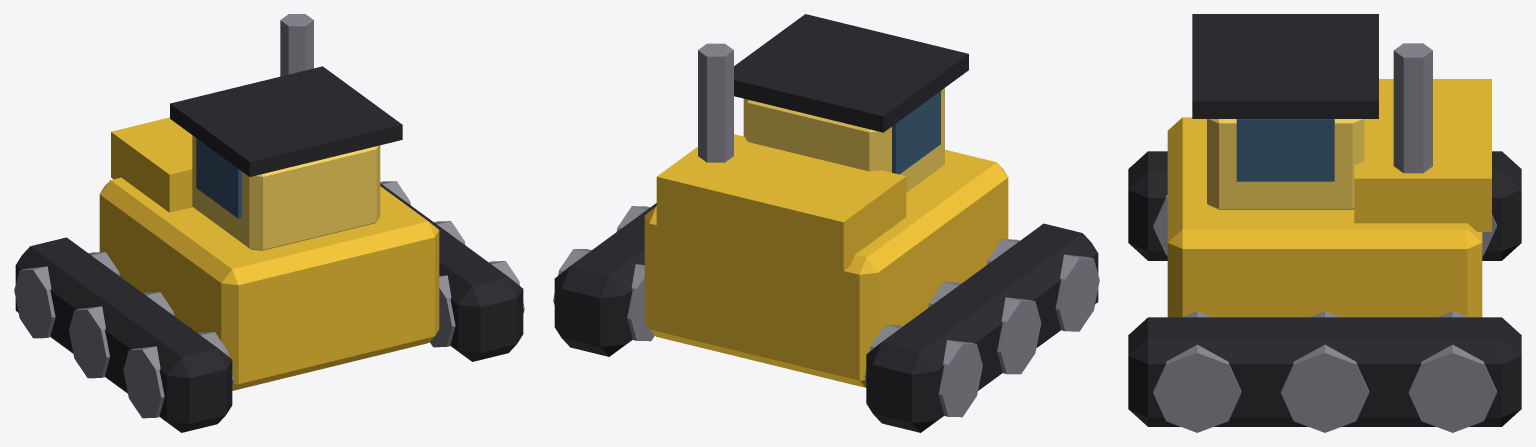
Rendered from dozer_body.glb.
3 renders of one model, left to right at view 1: azimuth 30°, elevation 25°; view 2: azimuth 150°, elevation 25°; view 3: azimuth 270°, elevation 25°, orthographic. The views are drawn at different scales.
Visible parts, largest first — view 1: dozer_body; view 2: dozer_body; view 3: dozer_body.
Boxes of the visible parts, x1,y1,x2,y2 form: dozer_body: [14, 14, 524, 432]; dozer_body: [553, 14, 1099, 432]; dozer_body: [1128, 14, 1521, 432].
Bounding box in the file's own units: 0.5 × 0.36 × 0.4.
